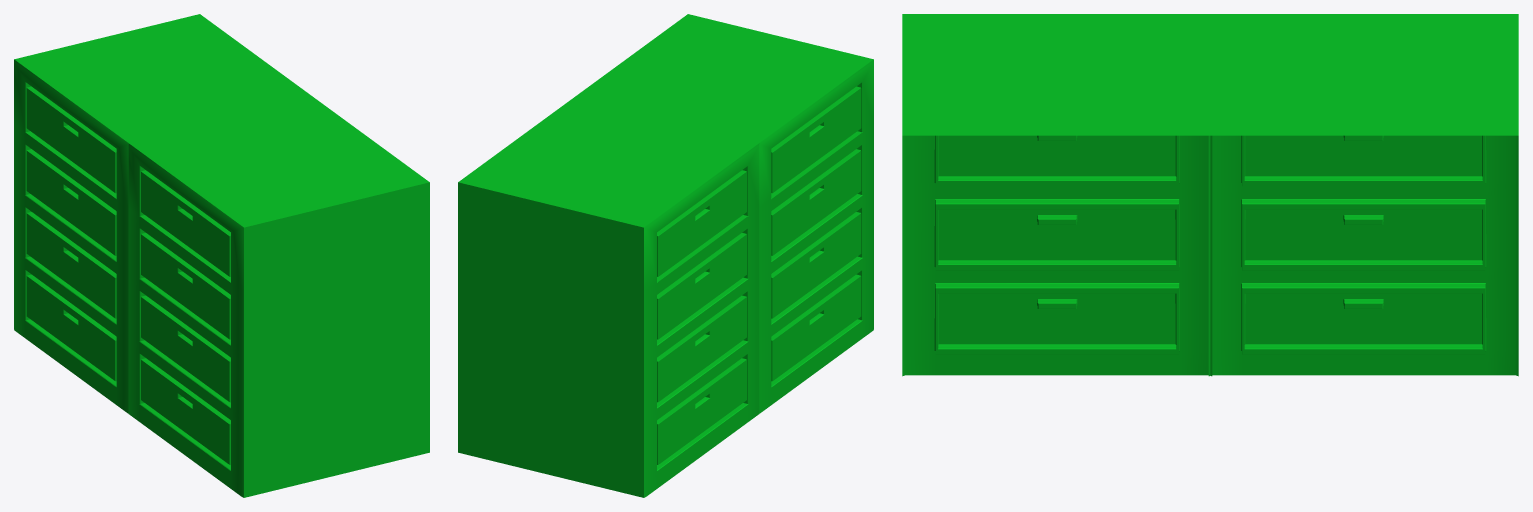
File: metal drawer.FBX
The picture shows the model from 3 angles, left to right: view 1: azimuth 30°, elevation 25°; view 2: azimuth 150°, elevation 25°; view 3: azimuth 270°, elevation 25°; orthographic projection. The views are drawn at different scales.
Visible parts, largest first — view 1: Metal Drawer; view 2: Metal Drawer; view 3: Metal Drawer.
Boxes of the visible parts, x1,y1,x2,y2 form: Metal Drawer: [14, 14, 429, 497]; Metal Drawer: [458, 14, 873, 497]; Metal Drawer: [902, 14, 1518, 376].
Bounding box in the file's own units: 58.46 × 80.84 × 125.
